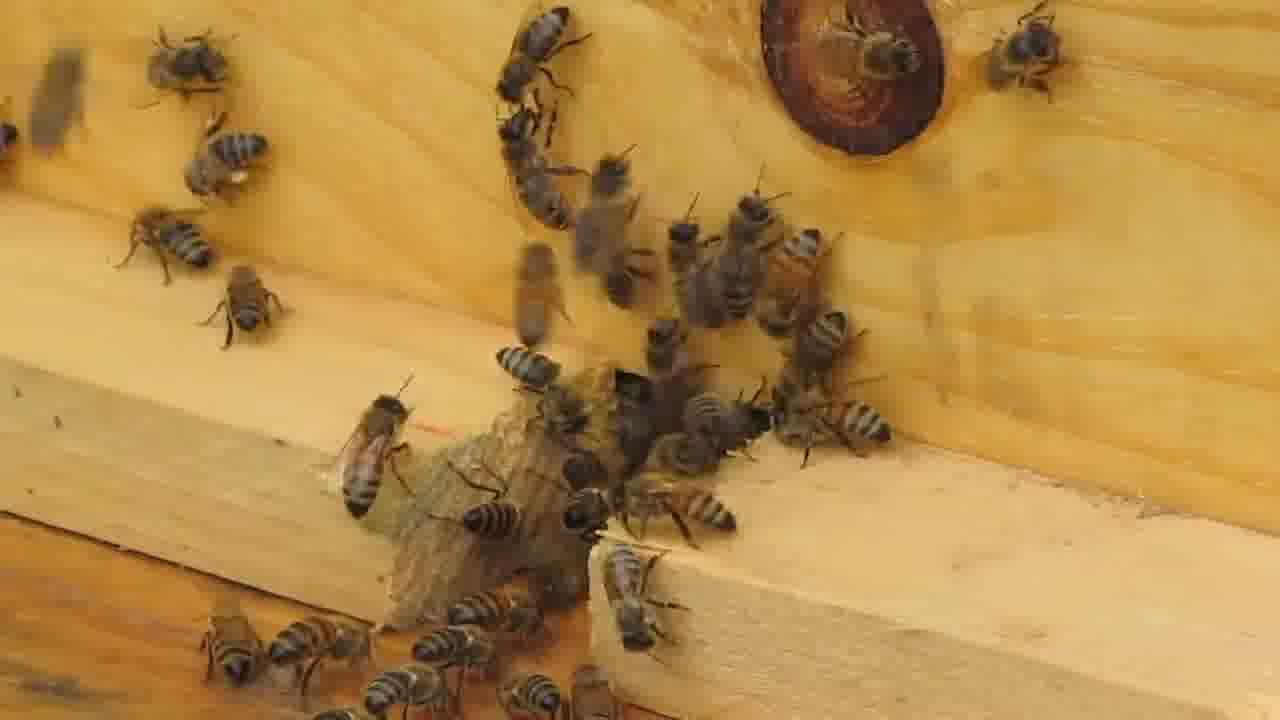pollen: (181, 112, 271, 204)
